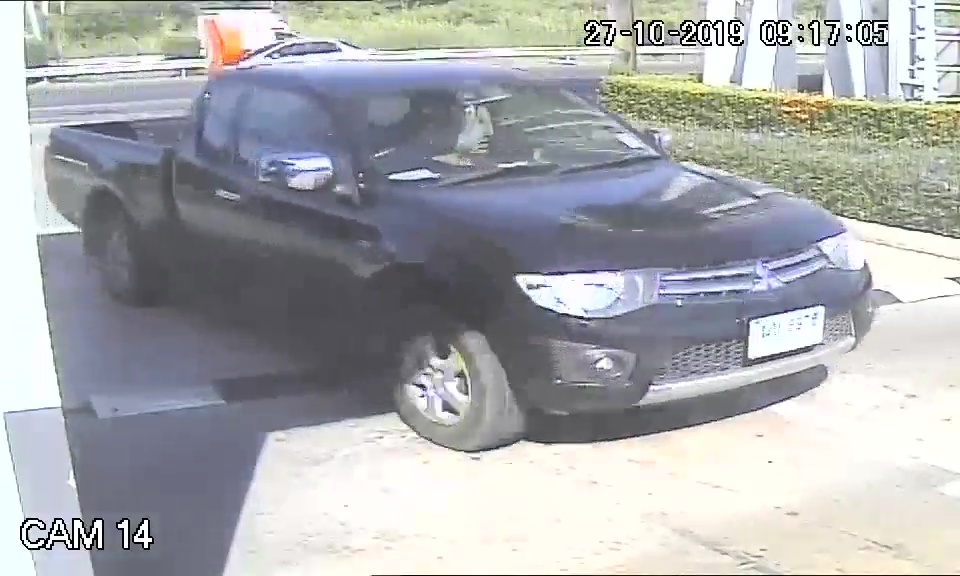pickup: (38, 55, 884, 457)
